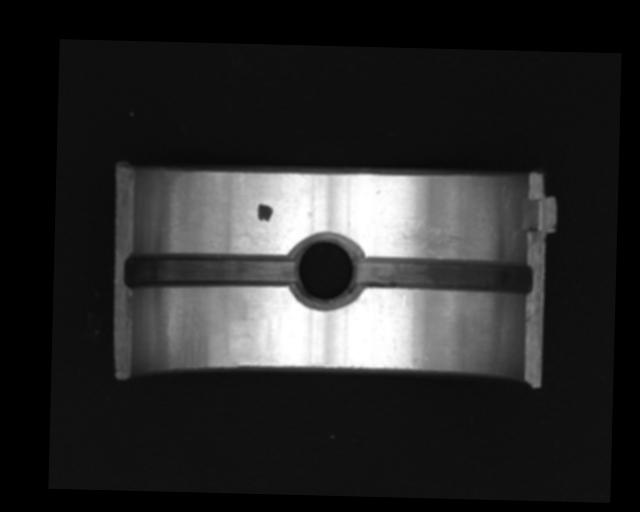blot: (257, 203, 273, 222)
gap: (352, 255, 534, 295), (123, 250, 294, 290)
hole: (288, 232, 361, 308)
nick: (392, 294, 407, 350)
scratch: (395, 218, 494, 259)
